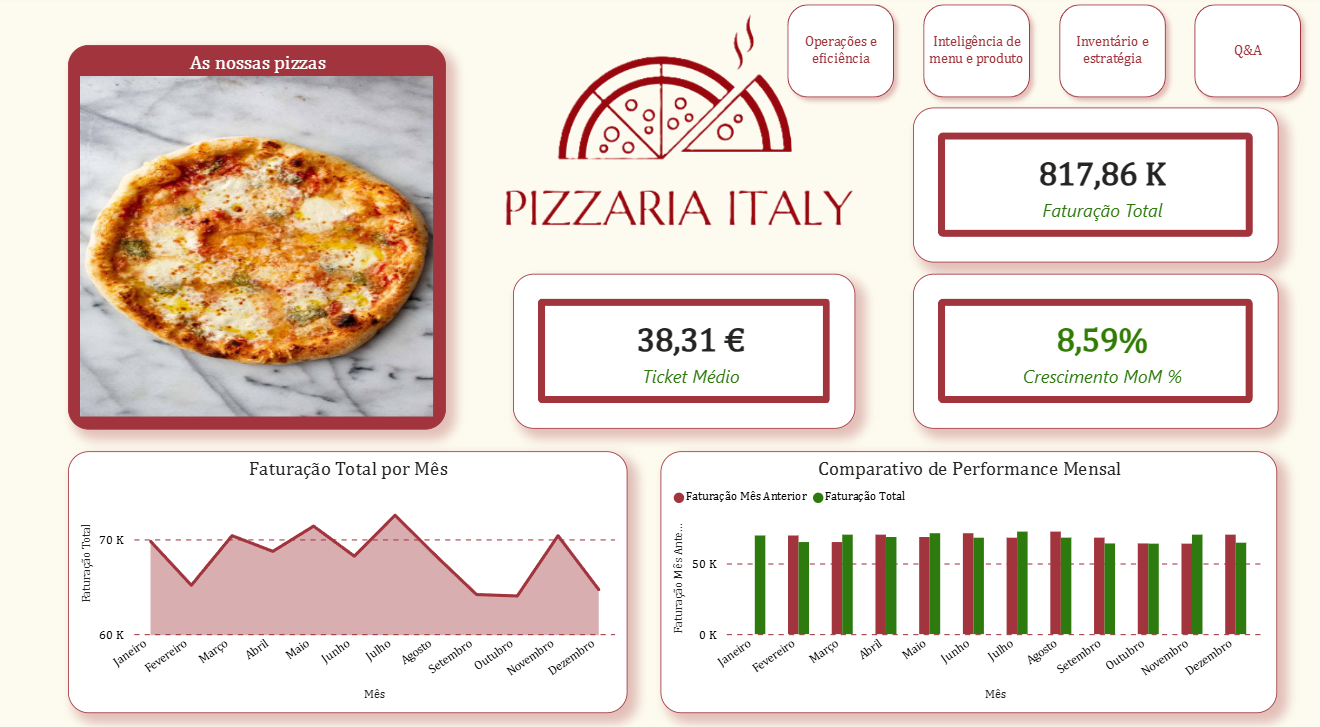

What the dashboard file says about the page in this screenshot:
{"tool":"powerbi","page":{"name":"Performance de vendas e sazonalidade","canvas":[1280,720],"ordinal":0},"visuals":[{"type":"cardVisual","fields":{"Data":["Fact_Vendas_Cabecalho.Ticket Médio"]},"box":[496.7,269.5,330.1,149.9],"z":0},{"type":"cardVisual","fields":{"Data":["Fact_Vendas_Detalhe.Faturação Total"]},"box":[882.8,109,352.8,149.9],"z":1000},{"type":"cardVisual","fields":{"Data":["Fact_Vendas_Detalhe.Crescimento MoM %"]},"box":[882.8,269.5,352.8,149.9],"z":2000},{"type":"areaChart","fields":{"Category":["Dim_Calendario.Mês"],"Y":["Fact_Vendas_Detalhe.Faturação Total"]},"box":[67.5,440,540,252.5],"z":3000},{"type":"clusteredColumnChart","title":"Comparativo de Performance Mensal","fields":{"Y":["Fact_Vendas_Detalhe.Faturação Mês Anterior","Fact_Vendas_Detalhe.Faturação Total"],"Category":["Dim_Calendario.Mês"]},"box":[640,440,595,252.5],"z":4000},{"type":"pageNavigator","box":[752.5,0,515,108.8],"z":5000},{"type":"ImageCarouselByMAQSoftware1448688110701","title":"As nossas pizzas","fields":{"ImageData":["Tabela_Imagens.Aspeto da pizza selecionada"]},"box":[68.1,48.5,364.9,371],"z":6000}]}

Visuals, with their boxes in screenshot pixels (x1, y1, x2, y2), scaled from the page's 1280x720 canvas onto the 1320x727 screenshot:
cardVisual - Fact_Vendas_Cabecalho.Ticket Médio: <box>512,272,853,423</box>
cardVisual - Fact_Vendas_Detalhe.Faturação Total: <box>910,110,1274,261</box>
cardVisual - Fact_Vendas_Detalhe.Crescimento MoM %: <box>910,272,1274,423</box>
areaChart - Dim_Calendario.Mês x Fact_Vendas_Detalhe.Faturação Total: <box>70,444,626,699</box>
"Comparativo de Performance Mensal" clusteredColumnChart: <box>660,444,1274,699</box>
pageNavigator: <box>776,0,1307,110</box>
"As nossas pizzas" ImageCarouselByMAQSoftware1448688110701: <box>70,49,447,424</box>
